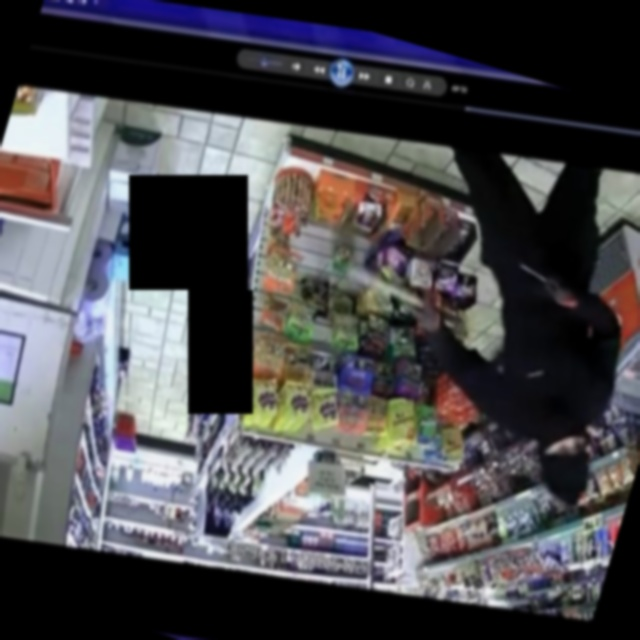gun: (502, 246, 576, 308)
